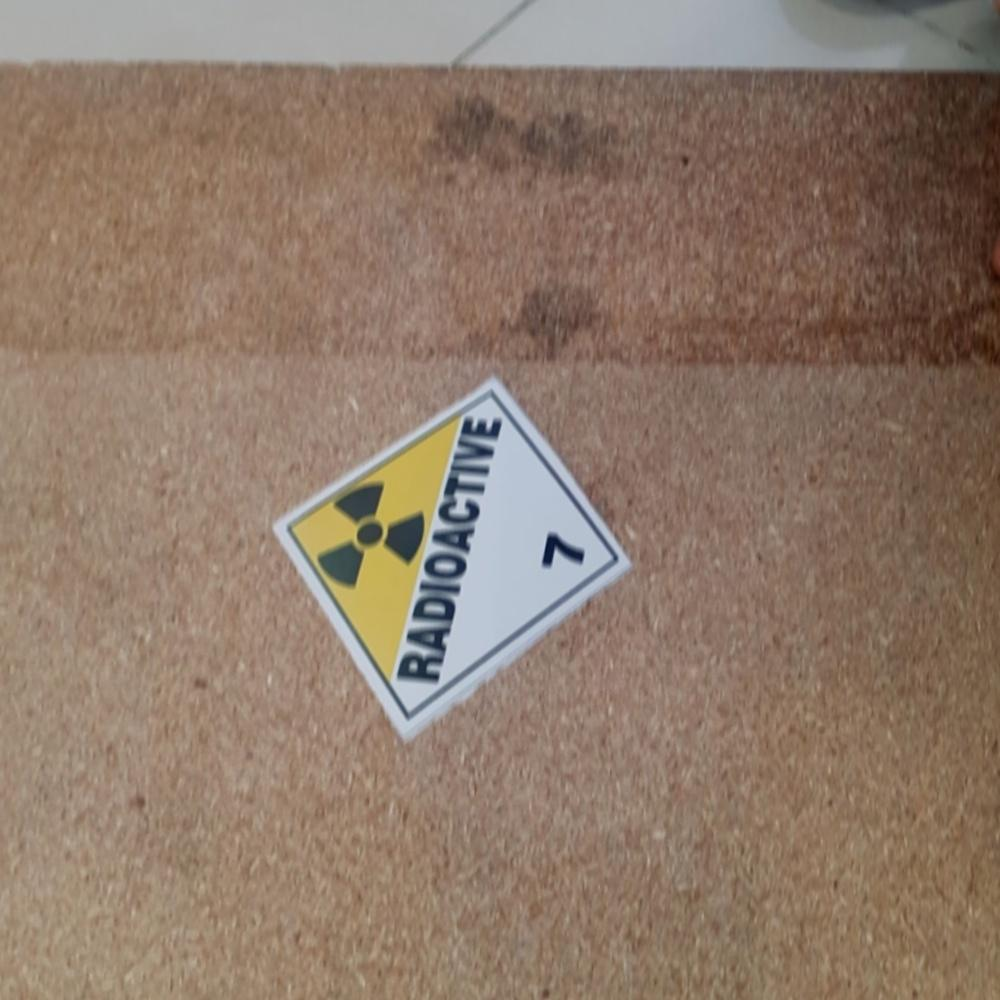radioactive: (265, 373, 639, 744)
